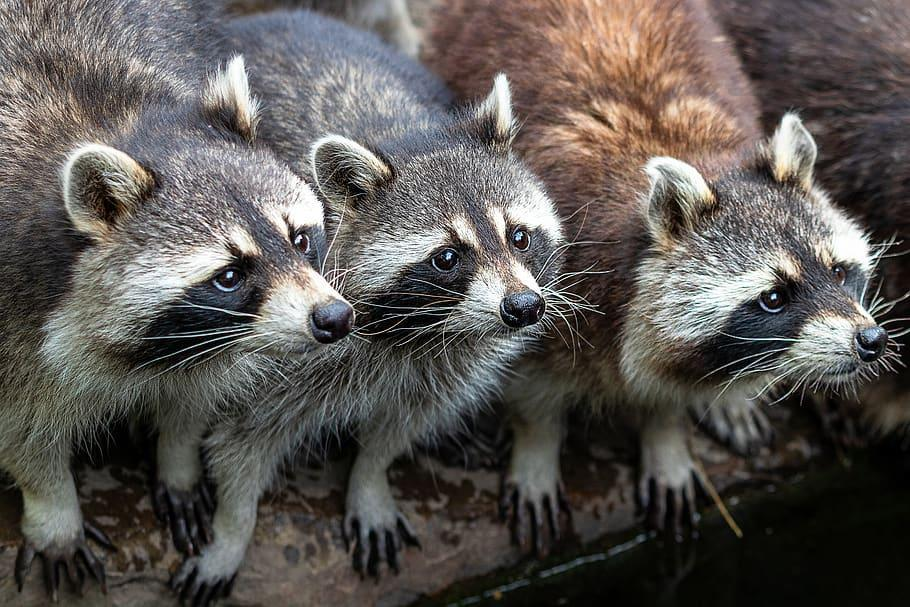raccoon: (3, 1, 360, 607), (563, 0, 910, 558), (308, 69, 572, 586)
